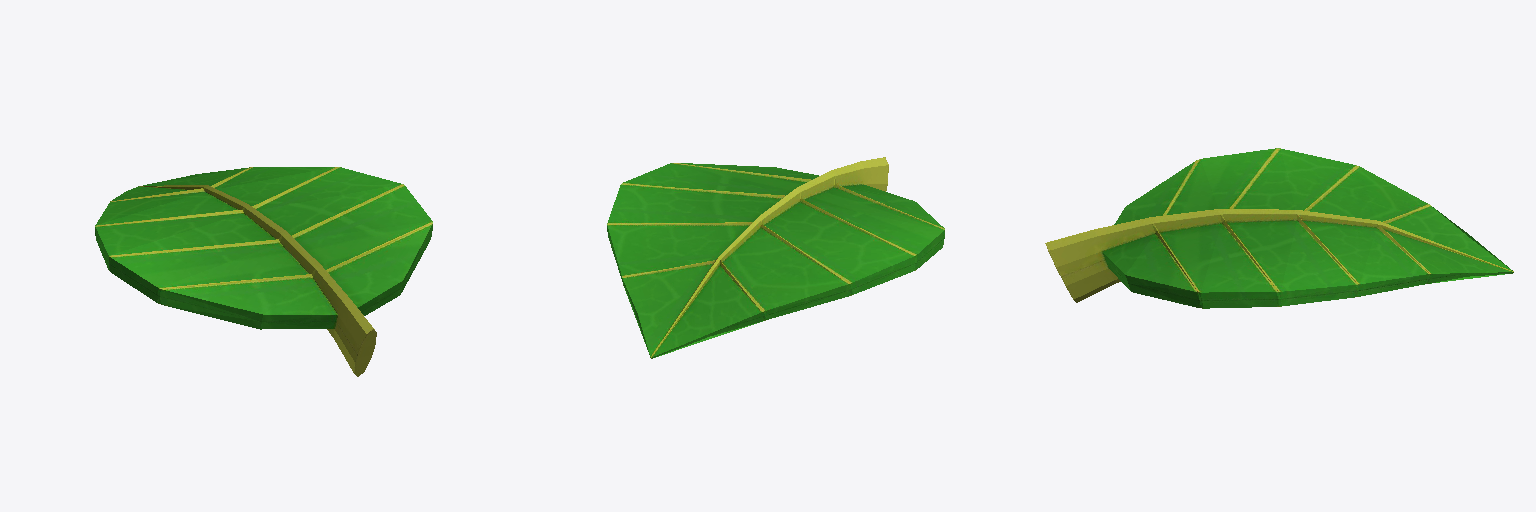
The picture shows the model from 3 angles: view 1: azimuth 30°, elevation 25°; view 2: azimuth 150°, elevation 25°; view 3: azimuth 270°, elevation 25°; orthographic projection.
Parts seen in each view (by area): view 1: leaf-final-fat_Cylinder.006; view 2: leaf-final-fat_Cylinder.006; view 3: leaf-final-fat_Cylinder.006.
Part boxes in pixels (bbox=[...]): leaf-final-fat_Cylinder.006: bbox=[95, 167, 432, 376]; leaf-final-fat_Cylinder.006: bbox=[607, 157, 944, 358]; leaf-final-fat_Cylinder.006: bbox=[1045, 148, 1513, 308].
Size of the model in its own units: 1.63 by 0.4992 by 2.25.
Materials: 2 (1 with a texture image).